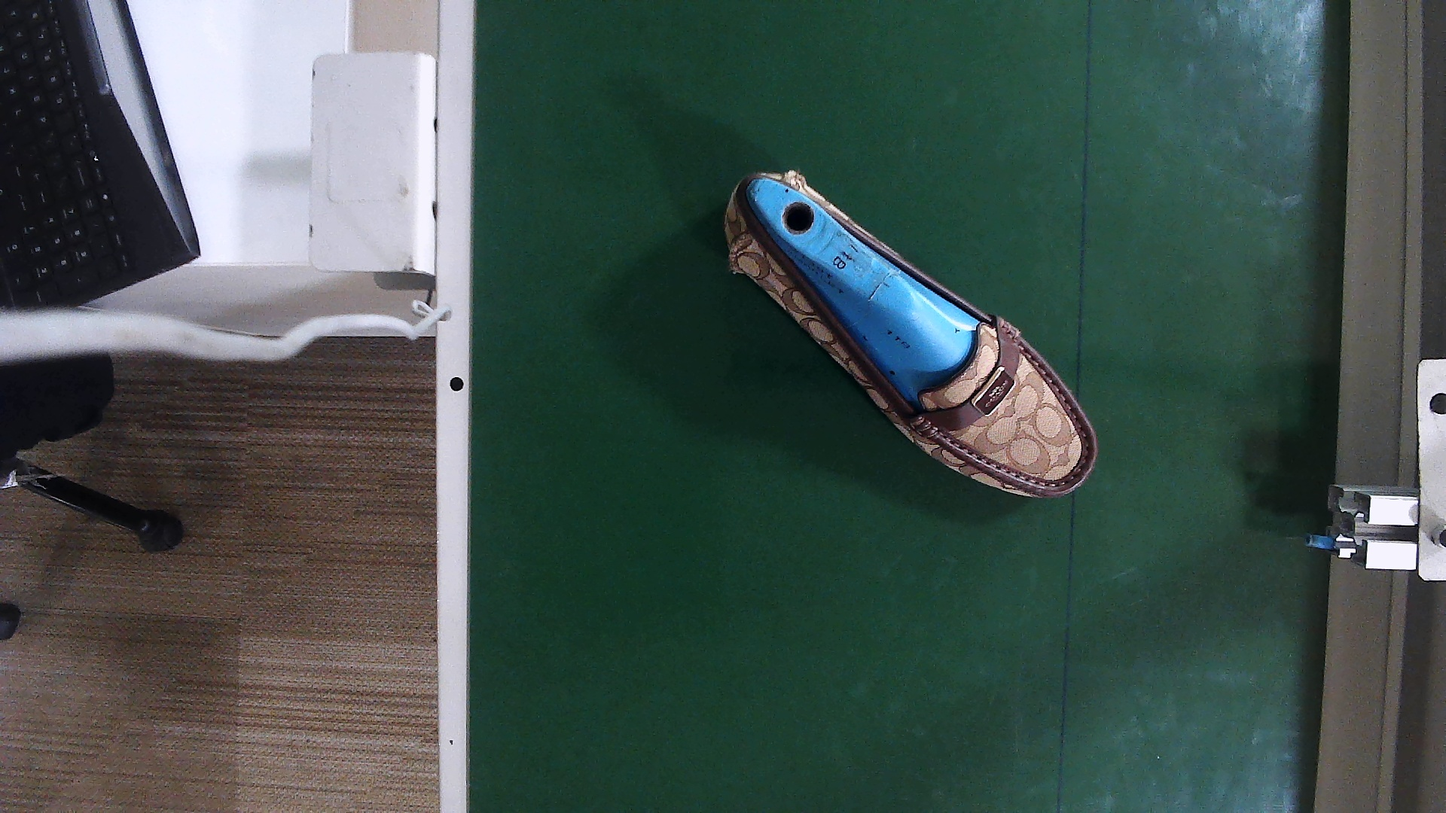shoe: (730, 175, 1097, 498)
